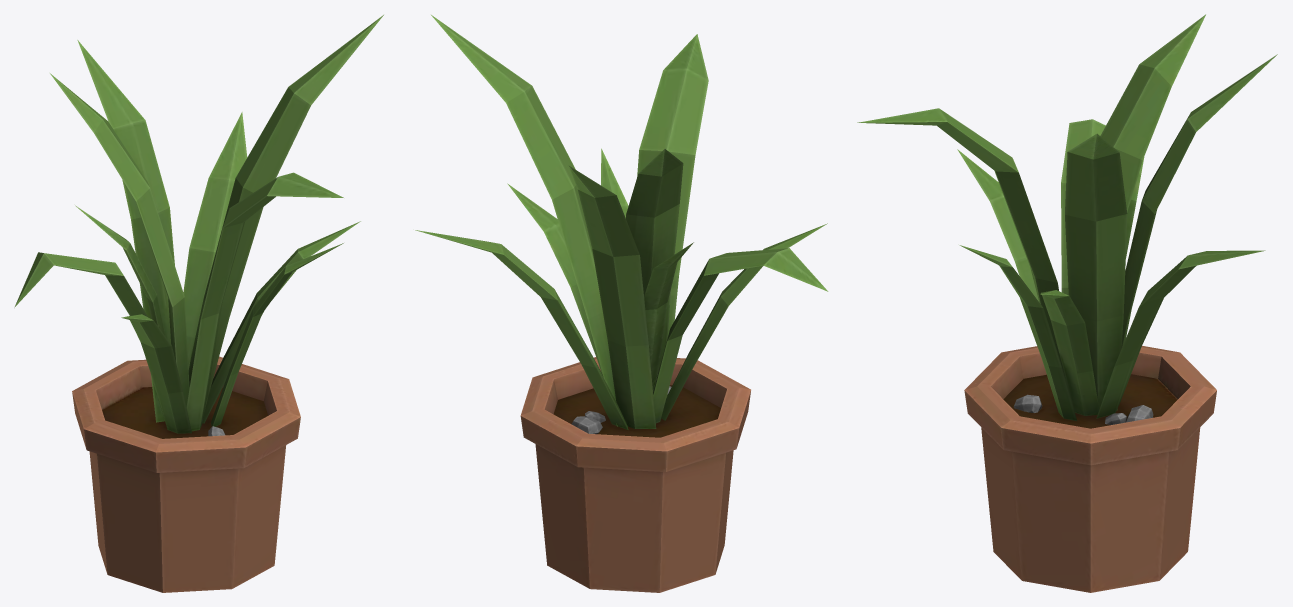
Rendered from house_plant.glb.
The picture shows the model from 3 angles, left to right: view 1: azimuth 30°, elevation 25°; view 2: azimuth 150°, elevation 25°; view 3: azimuth 270°, elevation 25°; orthographic projection. The views are drawn at different scales.
Visible parts, largest first — view 1: Houseplant_mesh; view 2: Houseplant_mesh; view 3: Houseplant_mesh.
Boxes of the visible parts, x1,y1,x2,y2 form: Houseplant_mesh: (14, 15, 383, 592); Houseplant_mesh: (415, 15, 828, 592); Houseplant_mesh: (857, 14, 1277, 592).
Size of the model in its own units: 4.85 by 5.93 by 4.34.
Materials: 1 (1 with a texture image).
